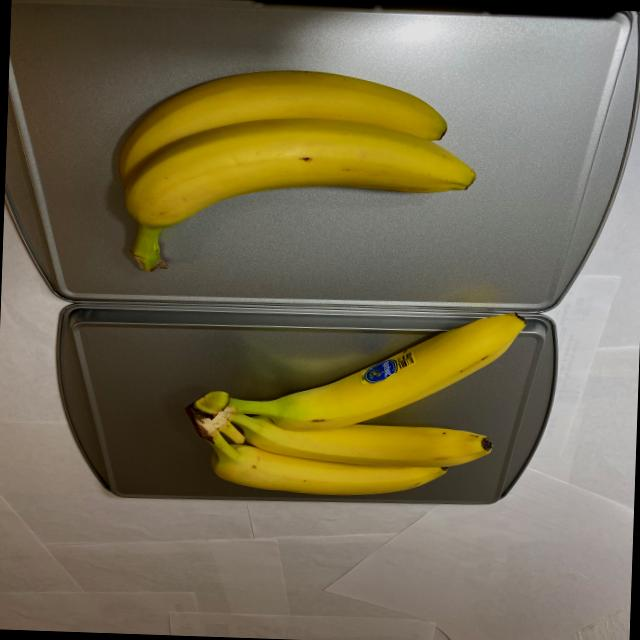banana: (104, 61, 488, 286), (180, 298, 536, 502)
